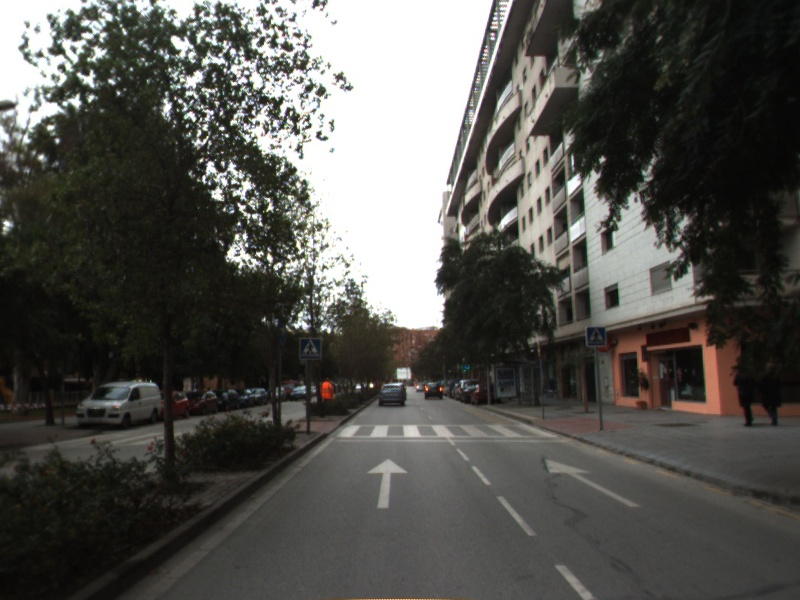STRAIGHT: (542, 456, 644, 509), (365, 456, 411, 510)
